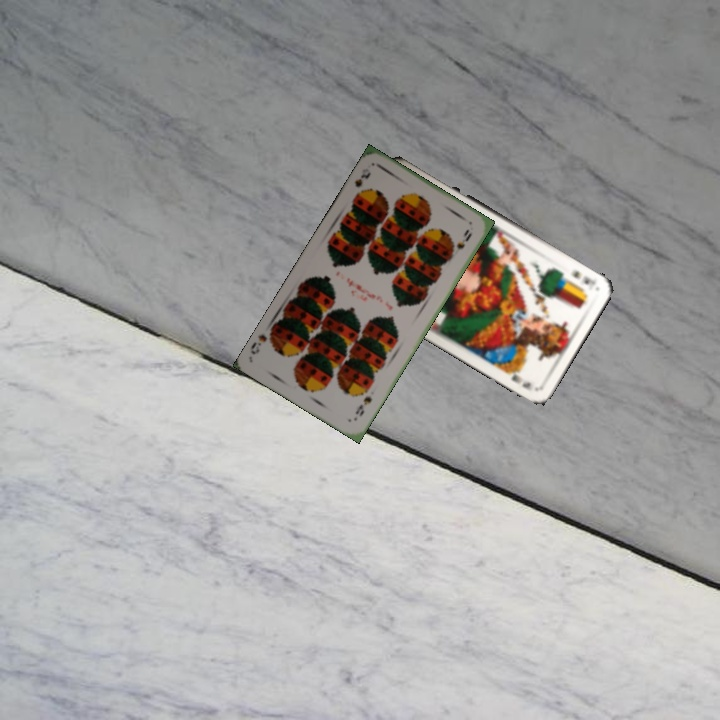EK: (567, 266, 598, 287)
S9: (350, 168, 374, 200), (351, 392, 375, 420)
